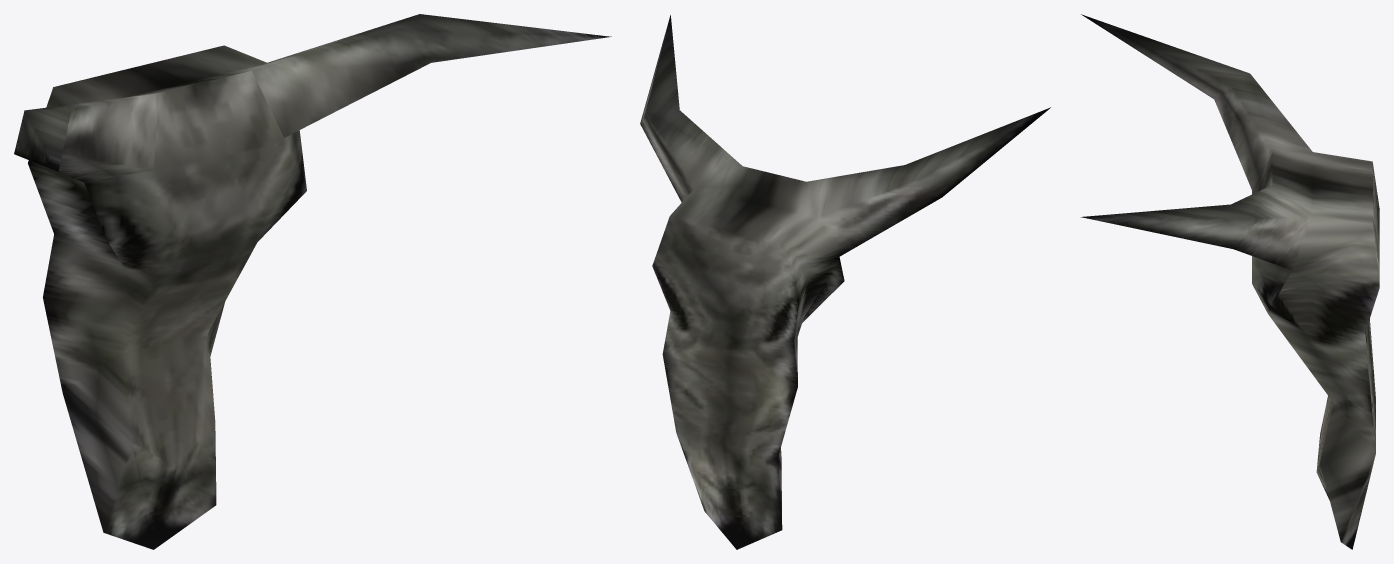
File: OC_DECORATE_V1.glb
3 views of the same model, side by side, from view 1: azimuth 30°, elevation 25°; view 2: azimuth 150°, elevation 25°; view 3: azimuth 270°, elevation 25° (orthographic). The views are drawn at different scales.
Visible parts, largest first — view 1: Mesh; view 2: Mesh; view 3: Mesh.
Boxes of the visible parts, <box> form: Mesh: <box>14,14,611,549</box>; Mesh: <box>640,15,1050,549</box>; Mesh: <box>1081,14,1379,549</box>.
Size of the model in its own units: 0.7067 by 0.7053 by 0.4406.
1 material, 1 textured.
